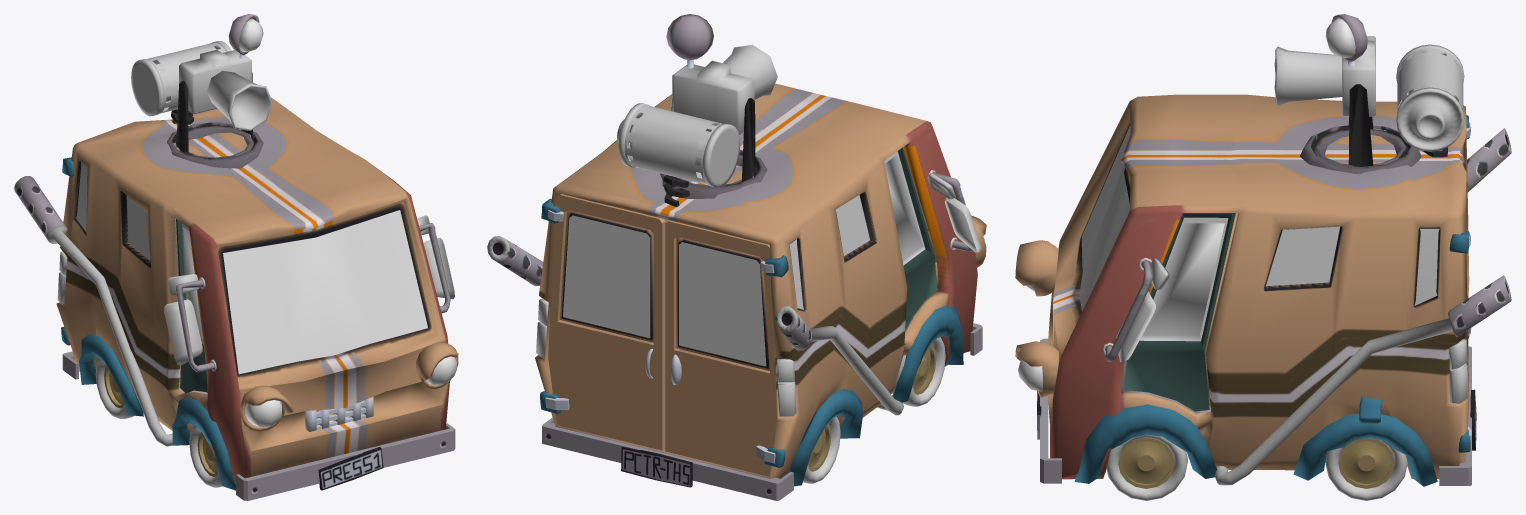
The model's file is Carv6.fbx.
The picture shows the model from 3 angles, left to right: view 1: azimuth 30°, elevation 25°; view 2: azimuth 150°, elevation 25°; view 3: azimuth 270°, elevation 25°; orthographic projection. The views are drawn at different scales.
Visible parts, largest first — view 1: Car, FrontWindow, Exhaust, BumperFront, Lens, Camera.001, MirrorS.001, Splash Guard Front, Protector, Splash Guard Back, Rail, Caps (+14 smaller); view 2: Car, RearDoorLeft, RearDoorRight, BackWindow, BackWindow.001, PhotoReel, Exhaust, Camera.001, BumperRear, Splash Guard Front, Splash Guard Back, Caps (+16 smaller); view 3: Car, Exhaust, SideDoorWindowLeft, SideDoorLeft, Splash Guard Front, Window, Splash Guard Back, Caps, FrontWindow, Lens, Protector, PhotoReel (+16 smaller).
Part boxes in pixels (x1,y1,x2,y2): Car: [56, 97, 449, 484]; FrontWindow: [223, 210, 427, 374]; Exhaust: [14, 176, 172, 446]; BumperFront: [236, 423, 455, 500]; Lens: [207, 71, 272, 130]; Camera.001: [179, 50, 251, 114]; MirrorS.001: [164, 237, 454, 365]; Splash Guard Front: [172, 397, 235, 490]; Protector: [241, 342, 458, 431]; Splash Guard Back: [79, 333, 143, 416]; Rail: [167, 122, 263, 168]; Caps: [131, 41, 231, 116]; Car: [535, 83, 977, 478]; RearDoorLeft: [548, 194, 665, 450]; RearDoorRight: [665, 220, 776, 476]; BackWindow: [563, 215, 650, 337]; BackWindow.001: [679, 242, 766, 366]; PhotoReel: [624, 105, 722, 184]; Exhaust: [487, 236, 903, 415]; Camera.001: [672, 60, 754, 134]; BumperRear: [542, 417, 793, 500]; Splash Guard Front: [892, 305, 963, 402]; Splash Guard Back: [789, 388, 862, 486]; Caps: [617, 103, 740, 187]; Car: [1047, 94, 1469, 479]; Exhaust: [1215, 128, 1511, 485]; SideDoorWindowLeft: [1139, 217, 1228, 341]; SideDoorLeft: [1123, 213, 1235, 411]; Splash Guard Front: [1074, 404, 1217, 483]; Window: [1266, 226, 1439, 305]; Splash Guard Back: [1293, 413, 1437, 486]; Caps: [1396, 44, 1464, 151]; FrontWindow: [1079, 125, 1130, 311]; Lens: [1274, 46, 1342, 105]; Protector: [1015, 240, 1058, 397]; PhotoReel: [1397, 48, 1463, 110].
Size of the model in its own units: 338 by 437 by 441.
